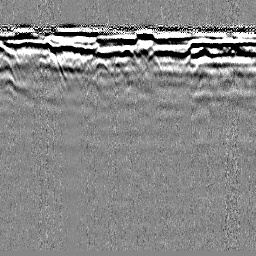cavity: (120, 42, 133, 58)
